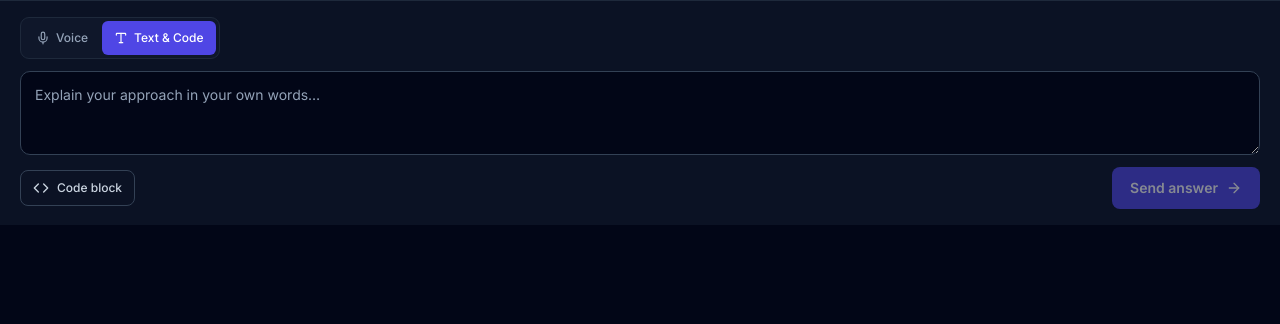
Test: explains a blocked microphone and lets the candidate try again
The width and height of the screenshot is (1280, 324).
Click the button "Voice" at (62, 38), box [24,21,100,55]
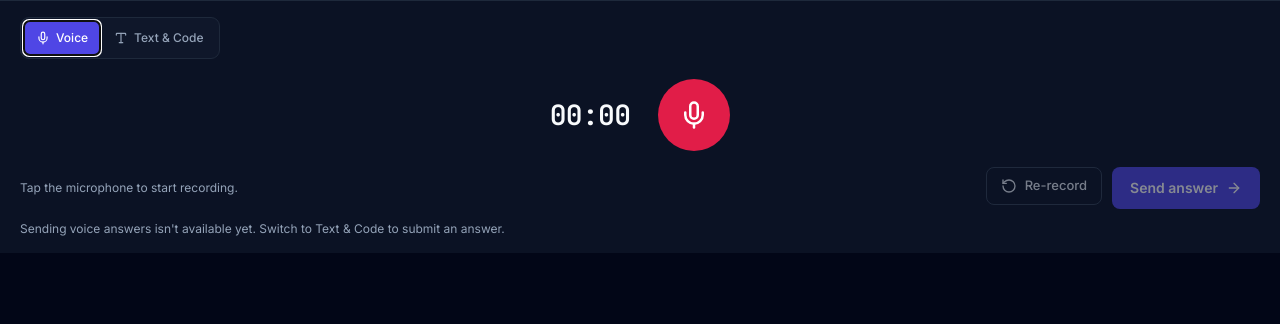
Click the button named "Start recording" at (694, 115), box [658,79,730,151]
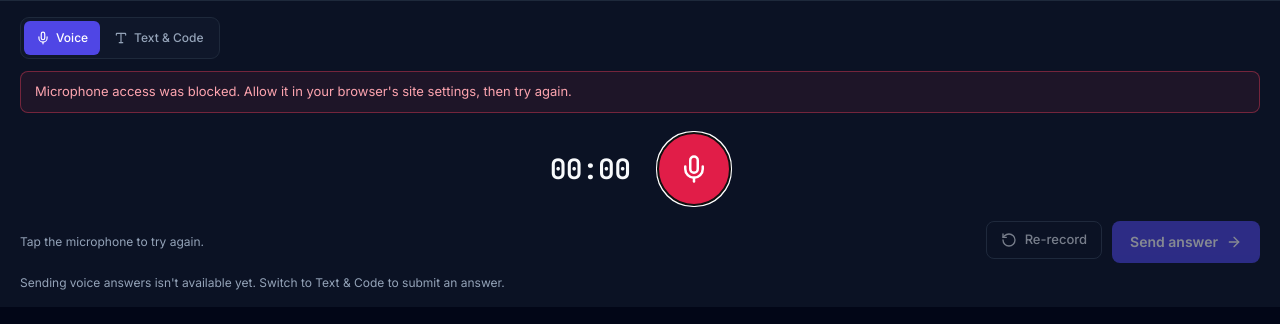
Expected: the message shows "Microphone access was blocked", [35,83,572,99]
Click the button named "Start recording" at (694, 168), box [658,132,730,204]
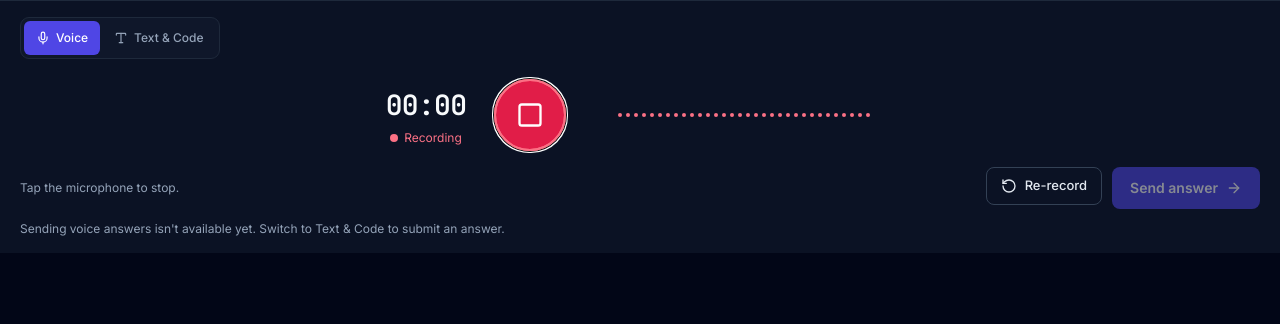
Expected: the button named "Stop recording" is shown, [494,79,566,151]
Expected: the message is gone
